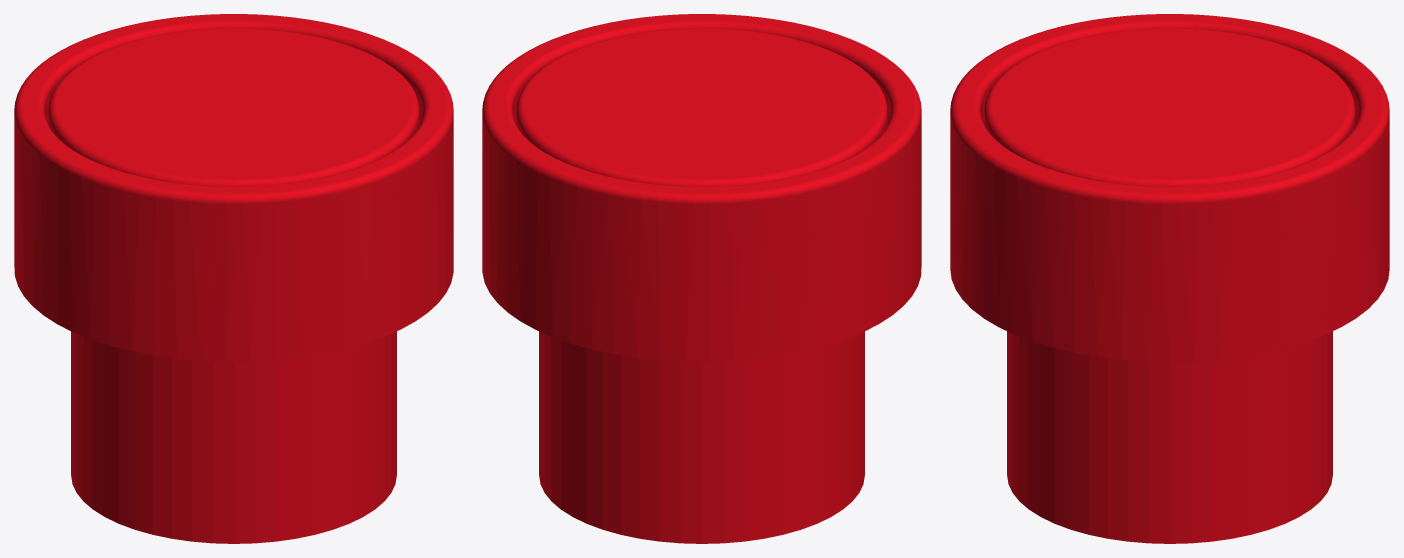
The model's file is buttonred.dae.
3 views of the same model, side by side, from view 1: azimuth 30°, elevation 25°; view 2: azimuth 150°, elevation 25°; view 3: azimuth 270°, elevation 25° (orthographic).
Visible parts, largest first — view 1: Push Button green; view 2: Push Button green; view 3: Push Button green.
Boxes of the visible parts, x1,y1,x2,y2 form: Push Button green: (14, 14, 453, 543); Push Button green: (482, 14, 921, 543); Push Button green: (950, 14, 1389, 543).
Size of the model in its own units: 0.029 by 0.029 by 0.027.
